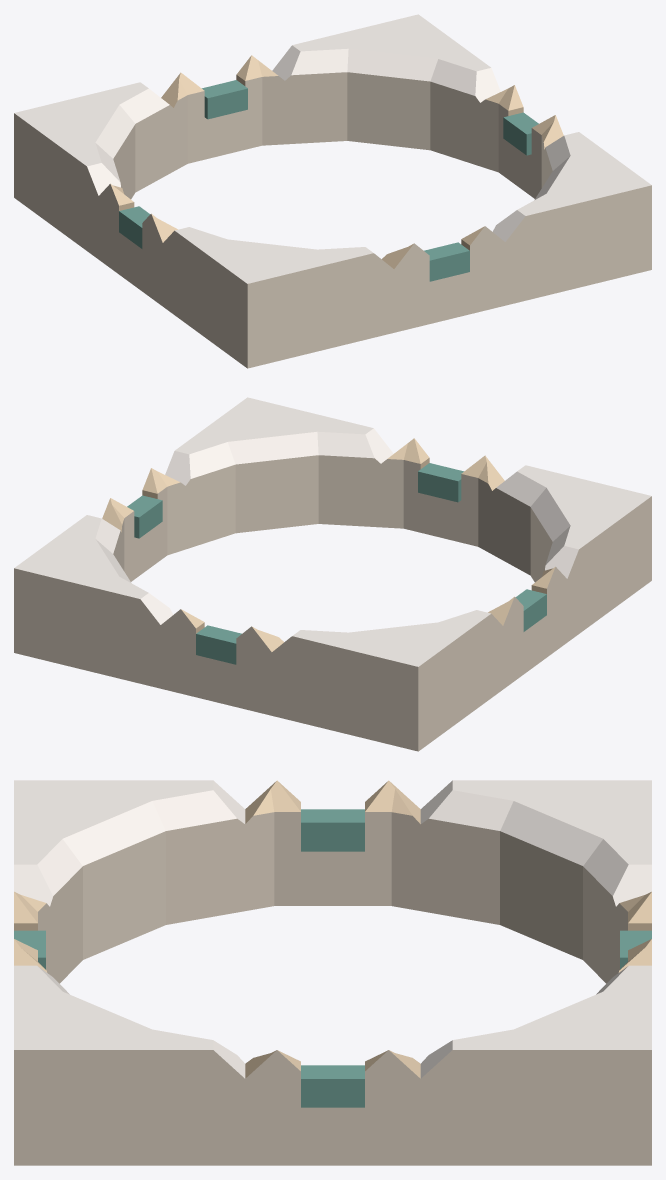
Rendered from Puzzle_Floor_Conduit_Rotating_Housing_Cross.glb.
3 renders of one model, top to bottom at view 1: azimuth 30°, elevation 25°; view 2: azimuth 150°, elevation 25°; view 3: azimuth 270°, elevation 25°, orthographic. The views are drawn at different scales.
Parts seen in each view (by area): view 1: Puzzle_Floor_Conduit_Rotating_Housing_Cross; view 2: Puzzle_Floor_Conduit_Rotating_Housing_Cross; view 3: Puzzle_Floor_Conduit_Rotating_Housing_Cross.
Boxes of the visible parts, bbox=[...] form: Puzzle_Floor_Conduit_Rotating_Housing_Cross: bbox=[14, 14, 651, 368]; Puzzle_Floor_Conduit_Rotating_Housing_Cross: bbox=[14, 397, 651, 751]; Puzzle_Floor_Conduit_Rotating_Housing_Cross: bbox=[14, 780, 651, 1165].
Bounding box in the file's own units: 1 × 0.2 × 1.
